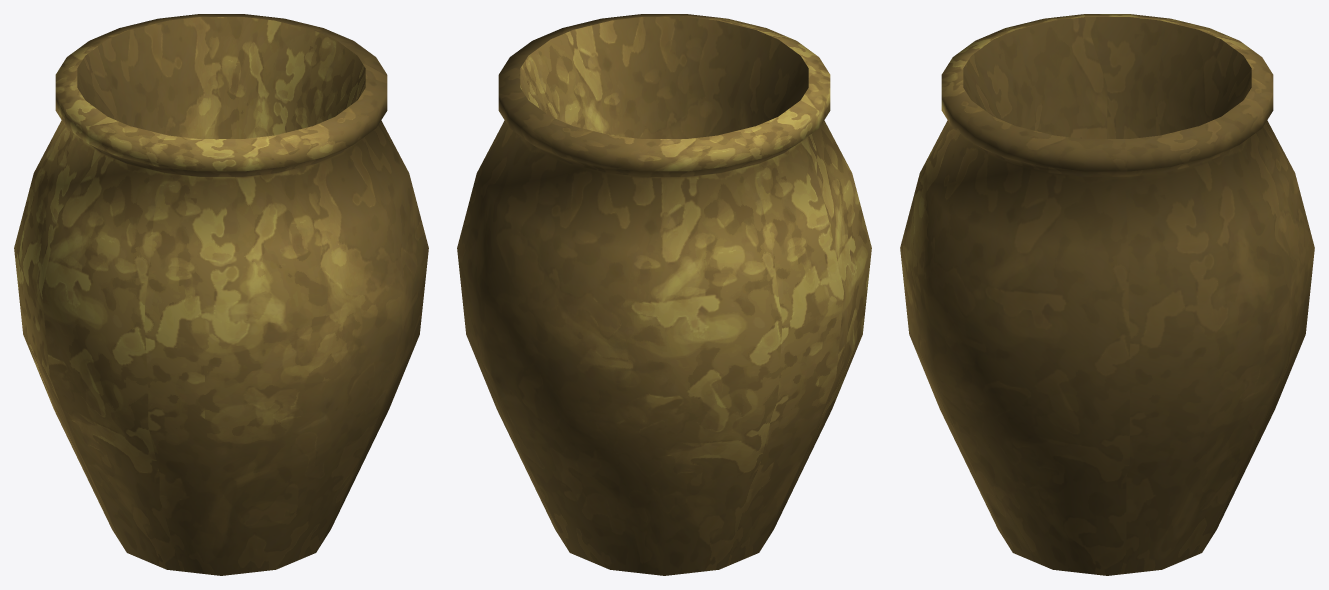
File: DI_015_pot.glb
3 views of the same model, side by side, from view 1: azimuth 30°, elevation 25°; view 2: azimuth 150°, elevation 25°; view 3: azimuth 270°, elevation 25° (orthographic).
Visible parts, largest first — view 1: Pot.001; view 2: Pot.001; view 3: Pot.001.
Part boxes in pixels (box(x1,y1,x2,y2)): Pot.001: box(14, 14, 428, 575); Pot.001: box(457, 14, 871, 575); Pot.001: box(900, 14, 1314, 575).
Size of the model in its own units: 0.6746 by 0.8108 by 0.6746.
1 material, 1 textured.
